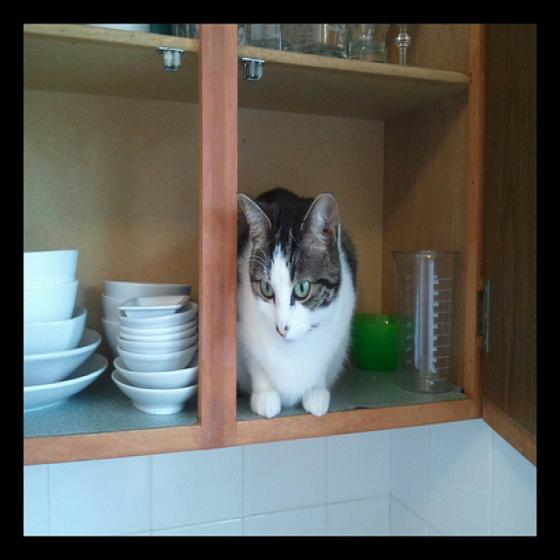bowl: (2, 301, 201, 411), (22, 328, 101, 388), (112, 370, 199, 415), (24, 310, 89, 360), (114, 350, 199, 387), (117, 341, 199, 371), (118, 300, 200, 329), (24, 280, 78, 322), (24, 250, 82, 287), (103, 280, 193, 300), (116, 296, 189, 317), (119, 316, 198, 335), (102, 320, 121, 357), (104, 297, 123, 321)
cat: (235, 186, 358, 423)
cup: (391, 246, 460, 396), (348, 23, 389, 62), (281, 24, 321, 55), (322, 24, 348, 58)
wine glass: (395, 25, 413, 63)
